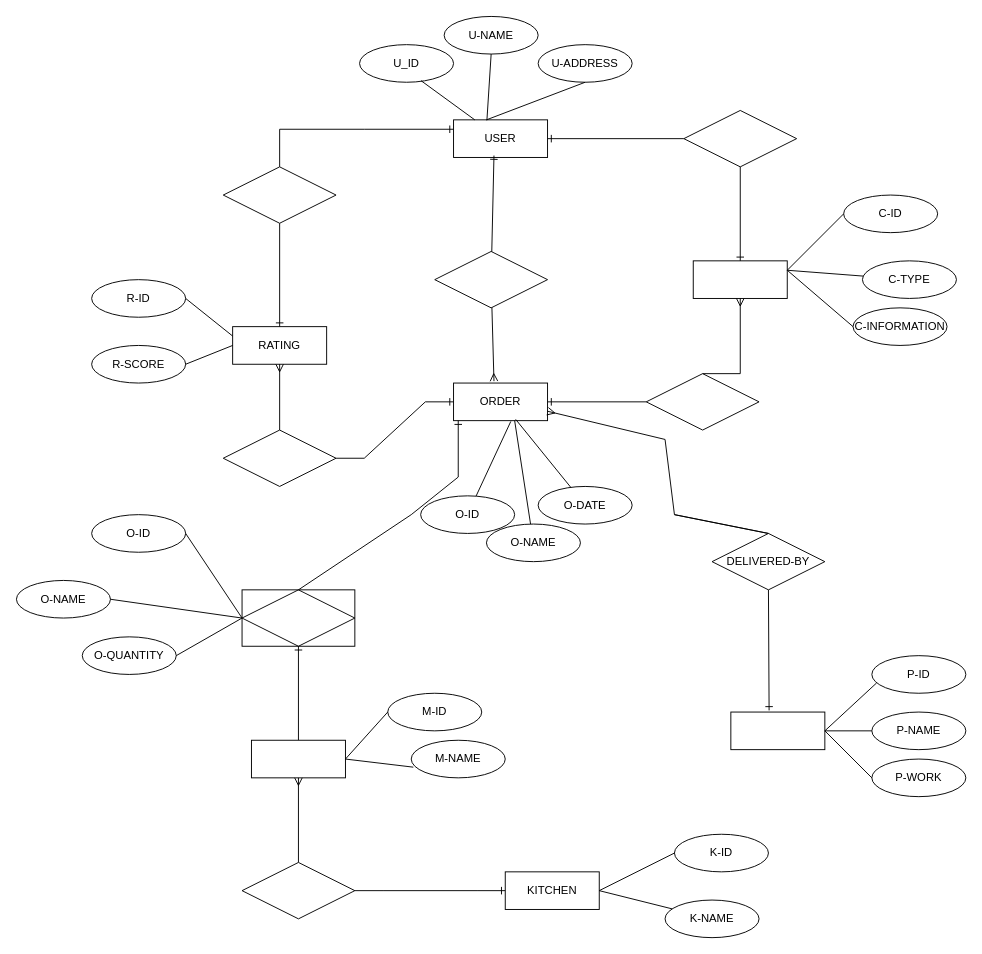
Some shapes in this 982 by 954 pixel diagram are drawn without their labels. Each missing label, with the centre of its shape:
"BELONG TO" goes at (x=279, y=457).
"COMPLAIN" goes at (x=739, y=279).
"FACE" goes at (x=702, y=401).
"FILE" goes at (x=740, y=138).
"GIVE" goes at (x=279, y=194).
"MEAL" goes at (x=298, y=758).
"ODER-ITEM" goes at (x=298, y=617).
"PARTNERS" goes at (x=777, y=730).
"PLACE" goes at (x=491, y=279).
"PREPARE IN" goes at (x=298, y=890).
